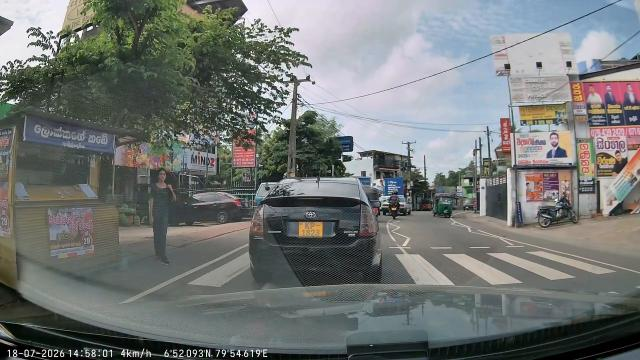number plate: (292, 217, 330, 242)
